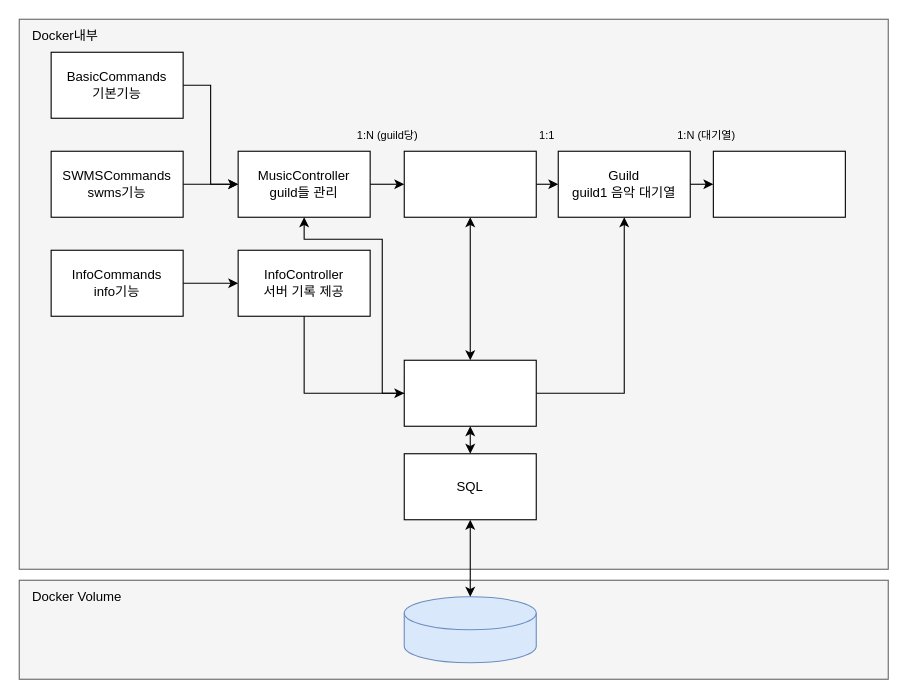
This 908x699 diagram has some shape labels left out. Each missing label, with the box of its shape:
Form UI + Action: (403, 359, 536, 426)
MusicPlayer guild의 음악 관리: (403, 150, 536, 217)
Mysql: (403, 596, 536, 663)
Song 노래 데이터: (712, 150, 845, 217)
